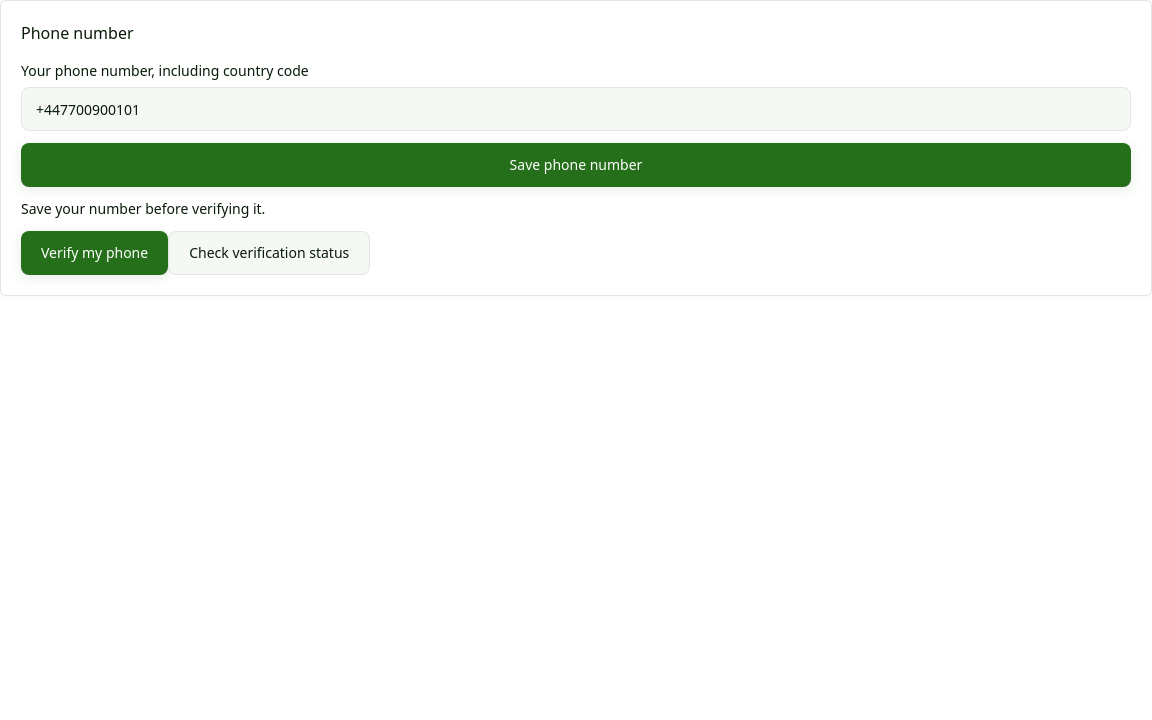
it: recognizes a saved number established by first issuance even after hiding the code
The image size is (1152, 720).
Expected: the text "Save your number before verifying it." is shown, [21,199,265,218]
Click the button "Verify my phone" at (95, 253), box [21,231,168,275]
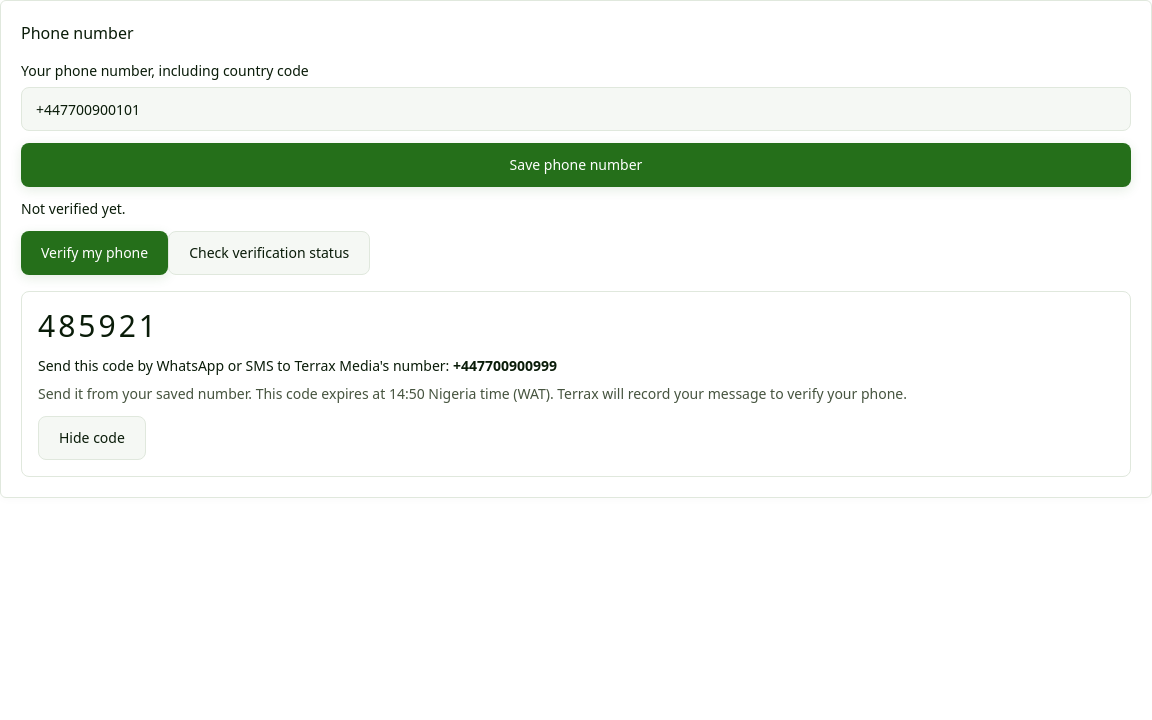
Now the text "485921" is shown, box [38,305,159,346]
Now the text "Save your number before verifying it." is gone
Click the button "Hide code" at (92, 438), box [38,416,146,460]
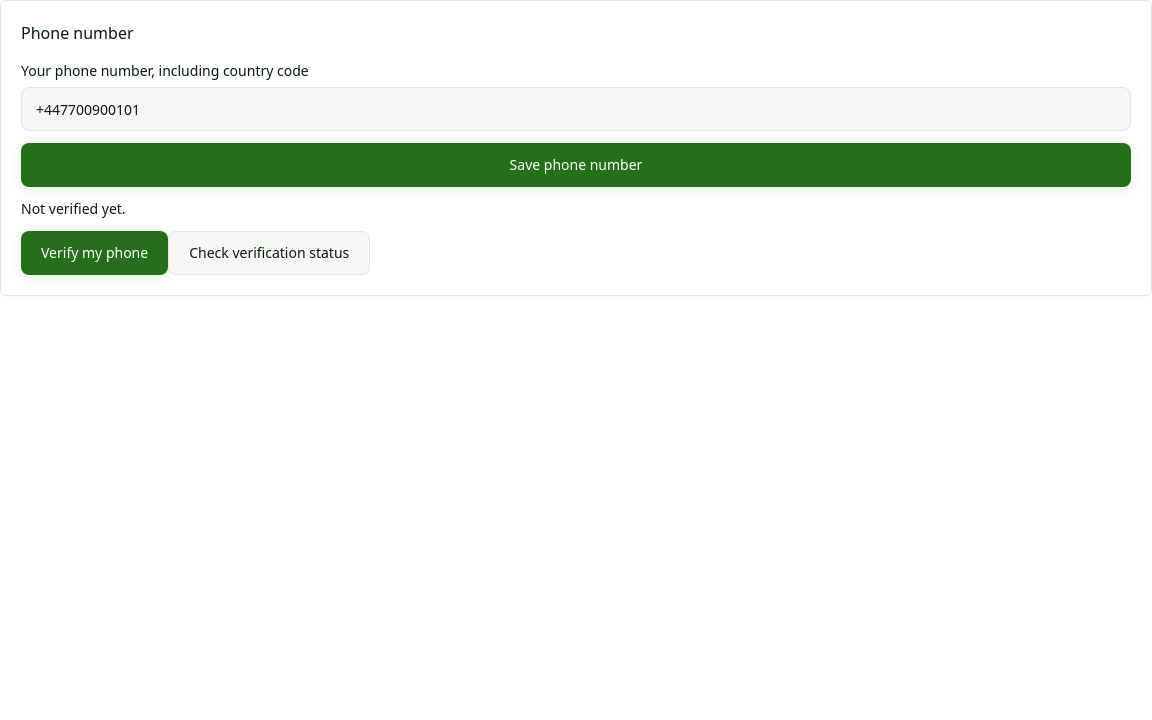
Now the text "Not verified yet." is shown, box [21,199,126,218]
Now the text "485921" is gone
